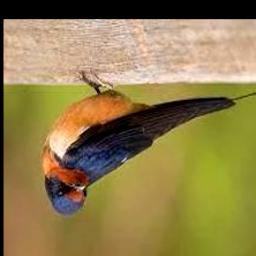Swallow: (40, 70, 256, 215)
